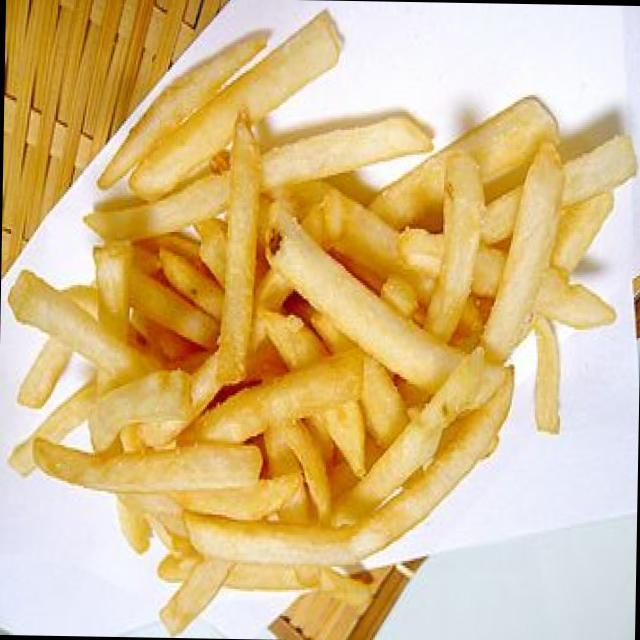French Fries: (34, 61, 583, 600)
